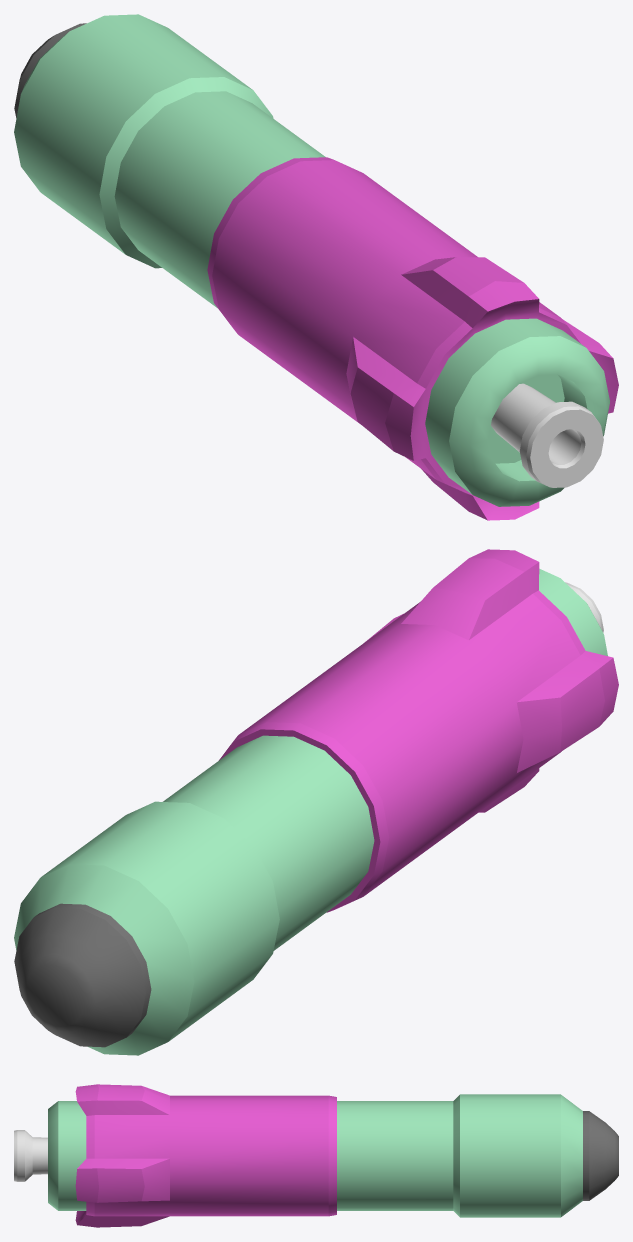
File: MissilePetit.fbx
3 renders of one model, top to bottom at view 1: azimuth 30°, elevation 25°; view 2: azimuth 150°, elevation 25°; view 3: azimuth 270°, elevation 25°, orthographic. The views are drawn at different scales.
Parts seen in each view (by area): view 1: Cylinder.001; view 2: Cylinder.001; view 3: Cylinder.001.
Part boxes in pixels (<box>): Cylinder.001: <box>14,14,618,520</box>; Cylinder.001: <box>14,549,618,1055</box>; Cylinder.001: <box>14,1084,618,1227</box>.
Size of the model in its own units: 102 by 102 by 412.
